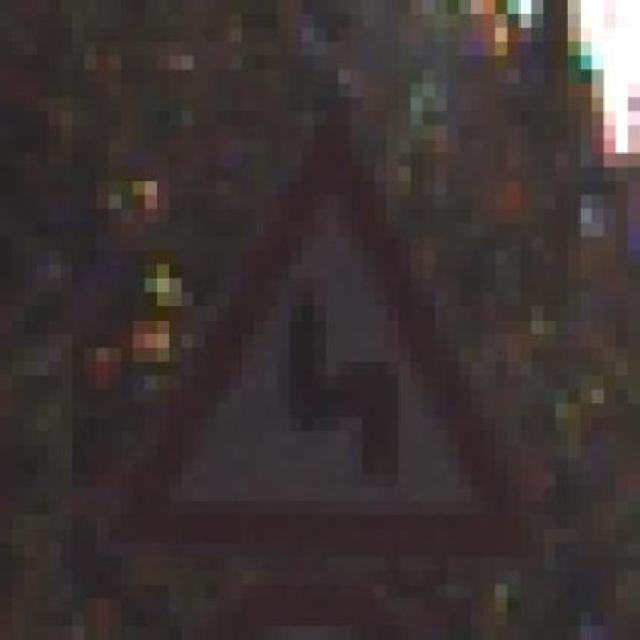Left Zig Zag Traffic: (120, 83, 532, 585)
